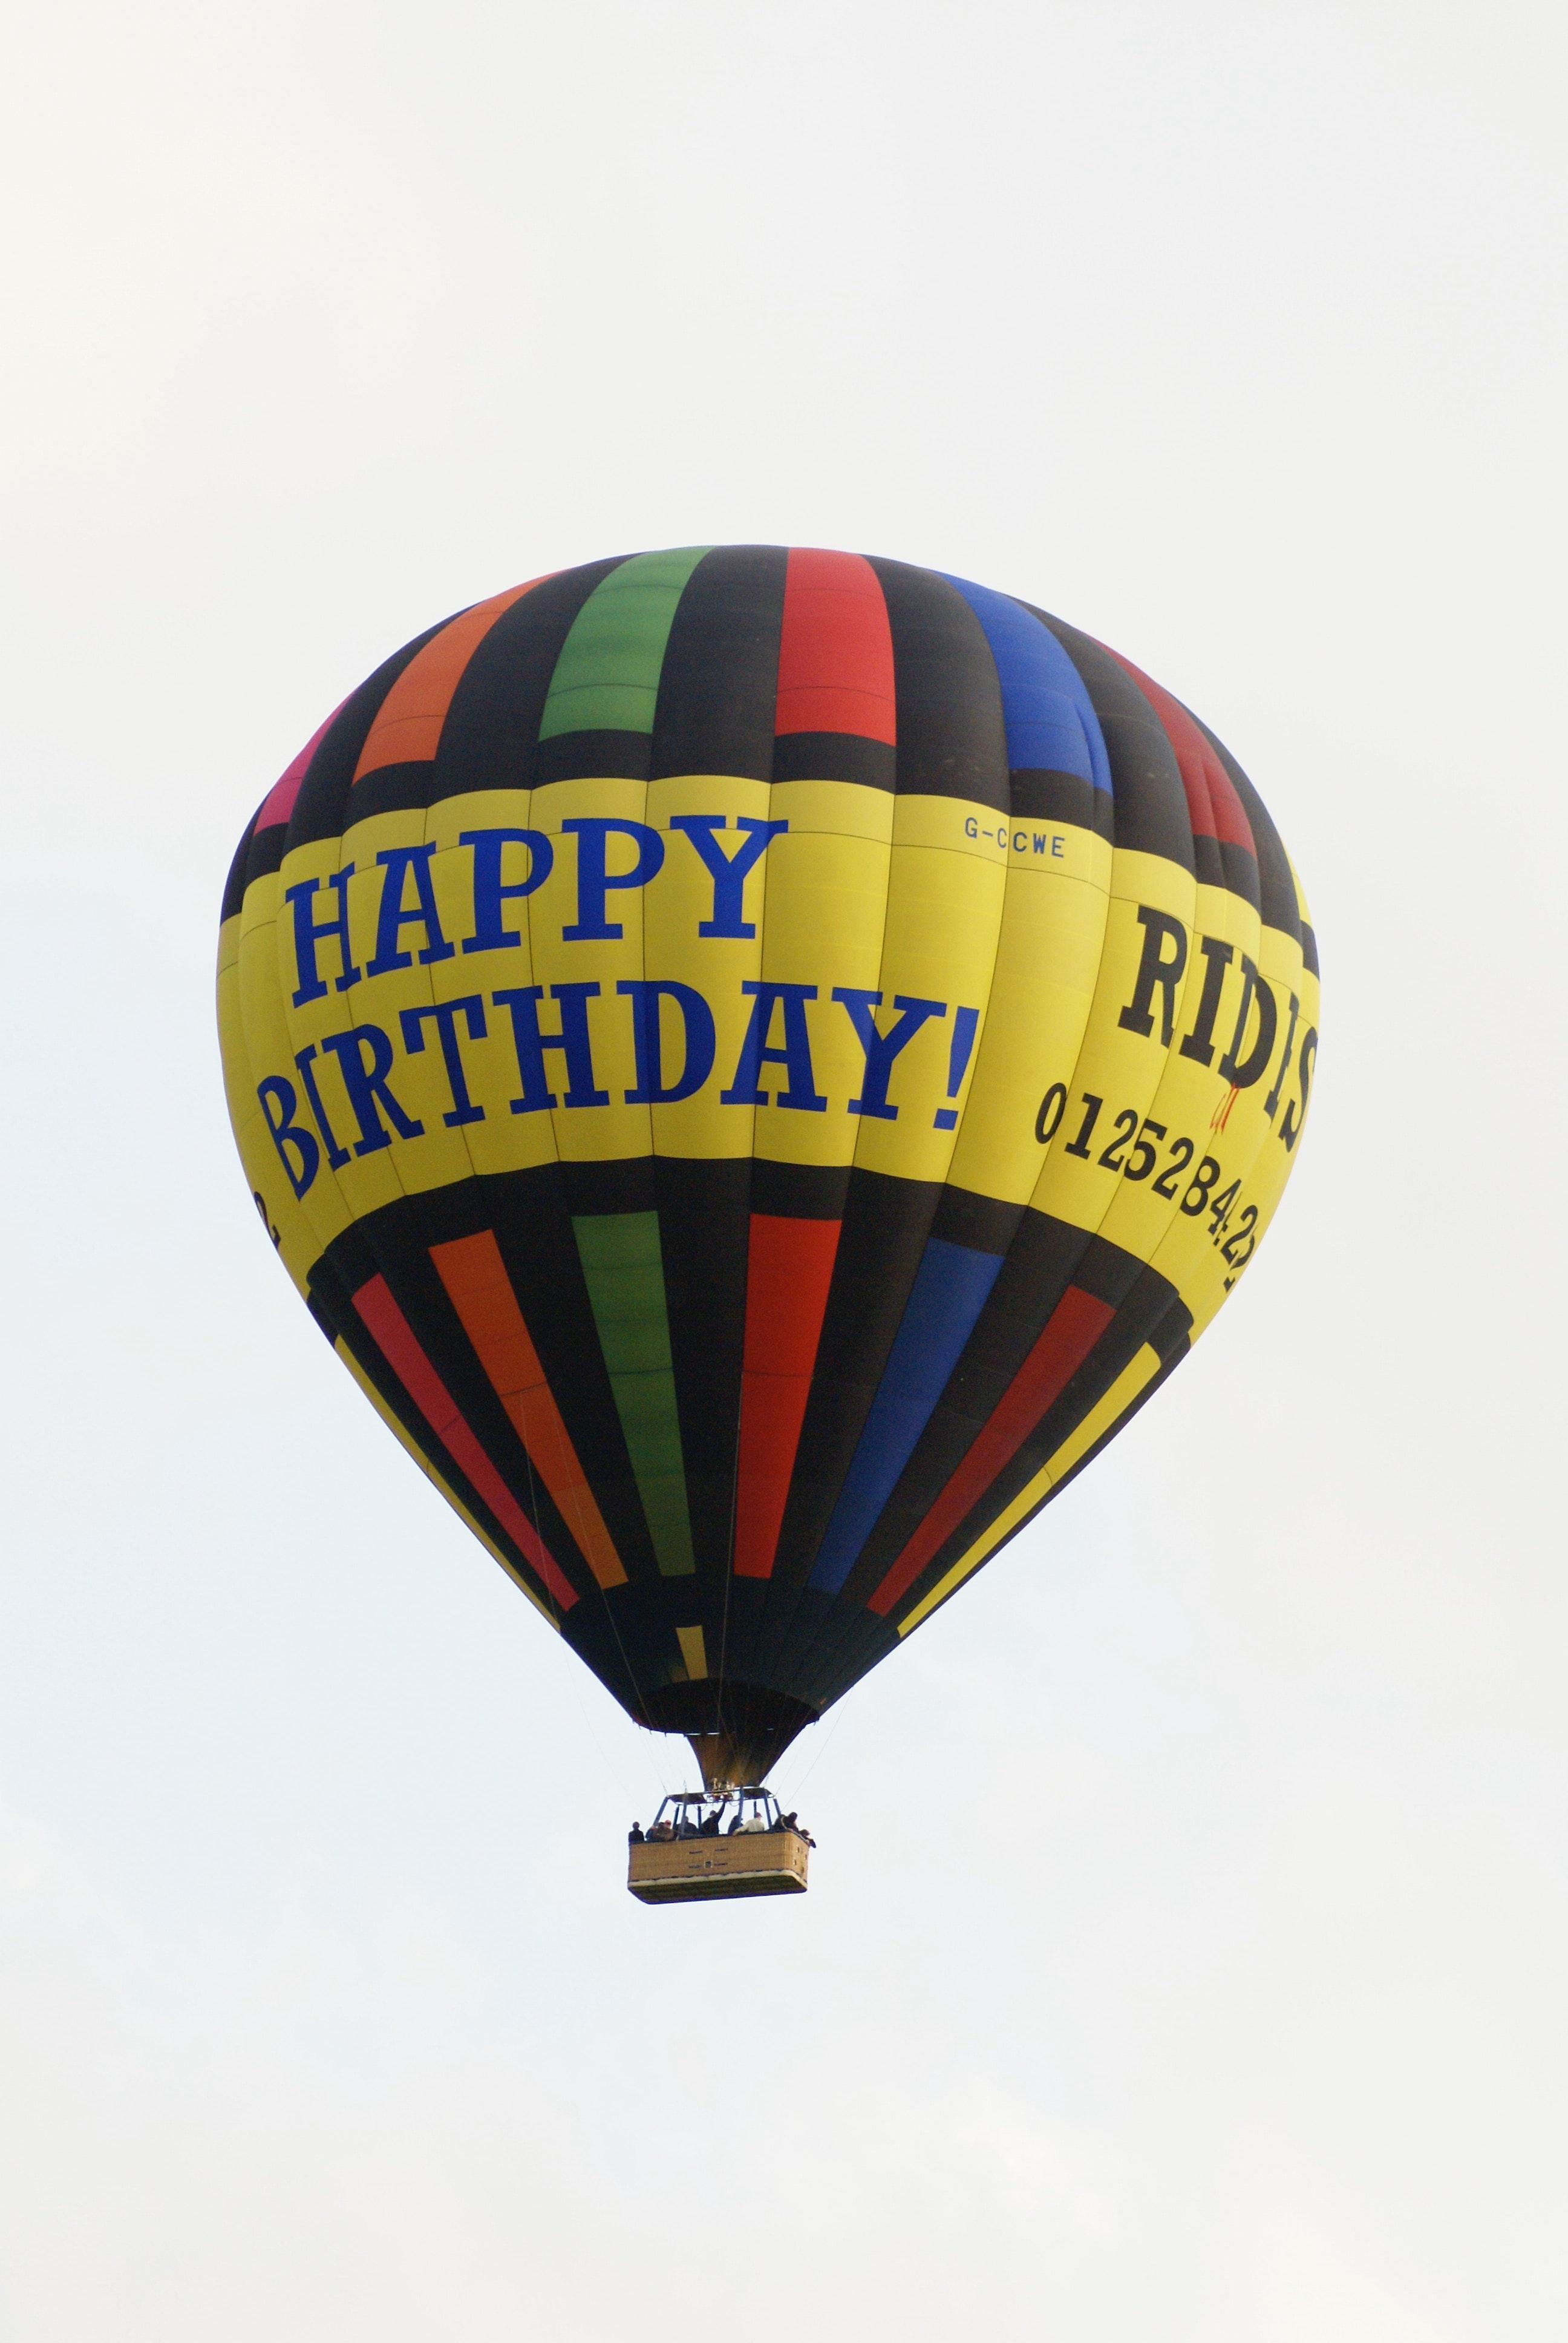hot air ballon: (219, 539, 1332, 1911)
